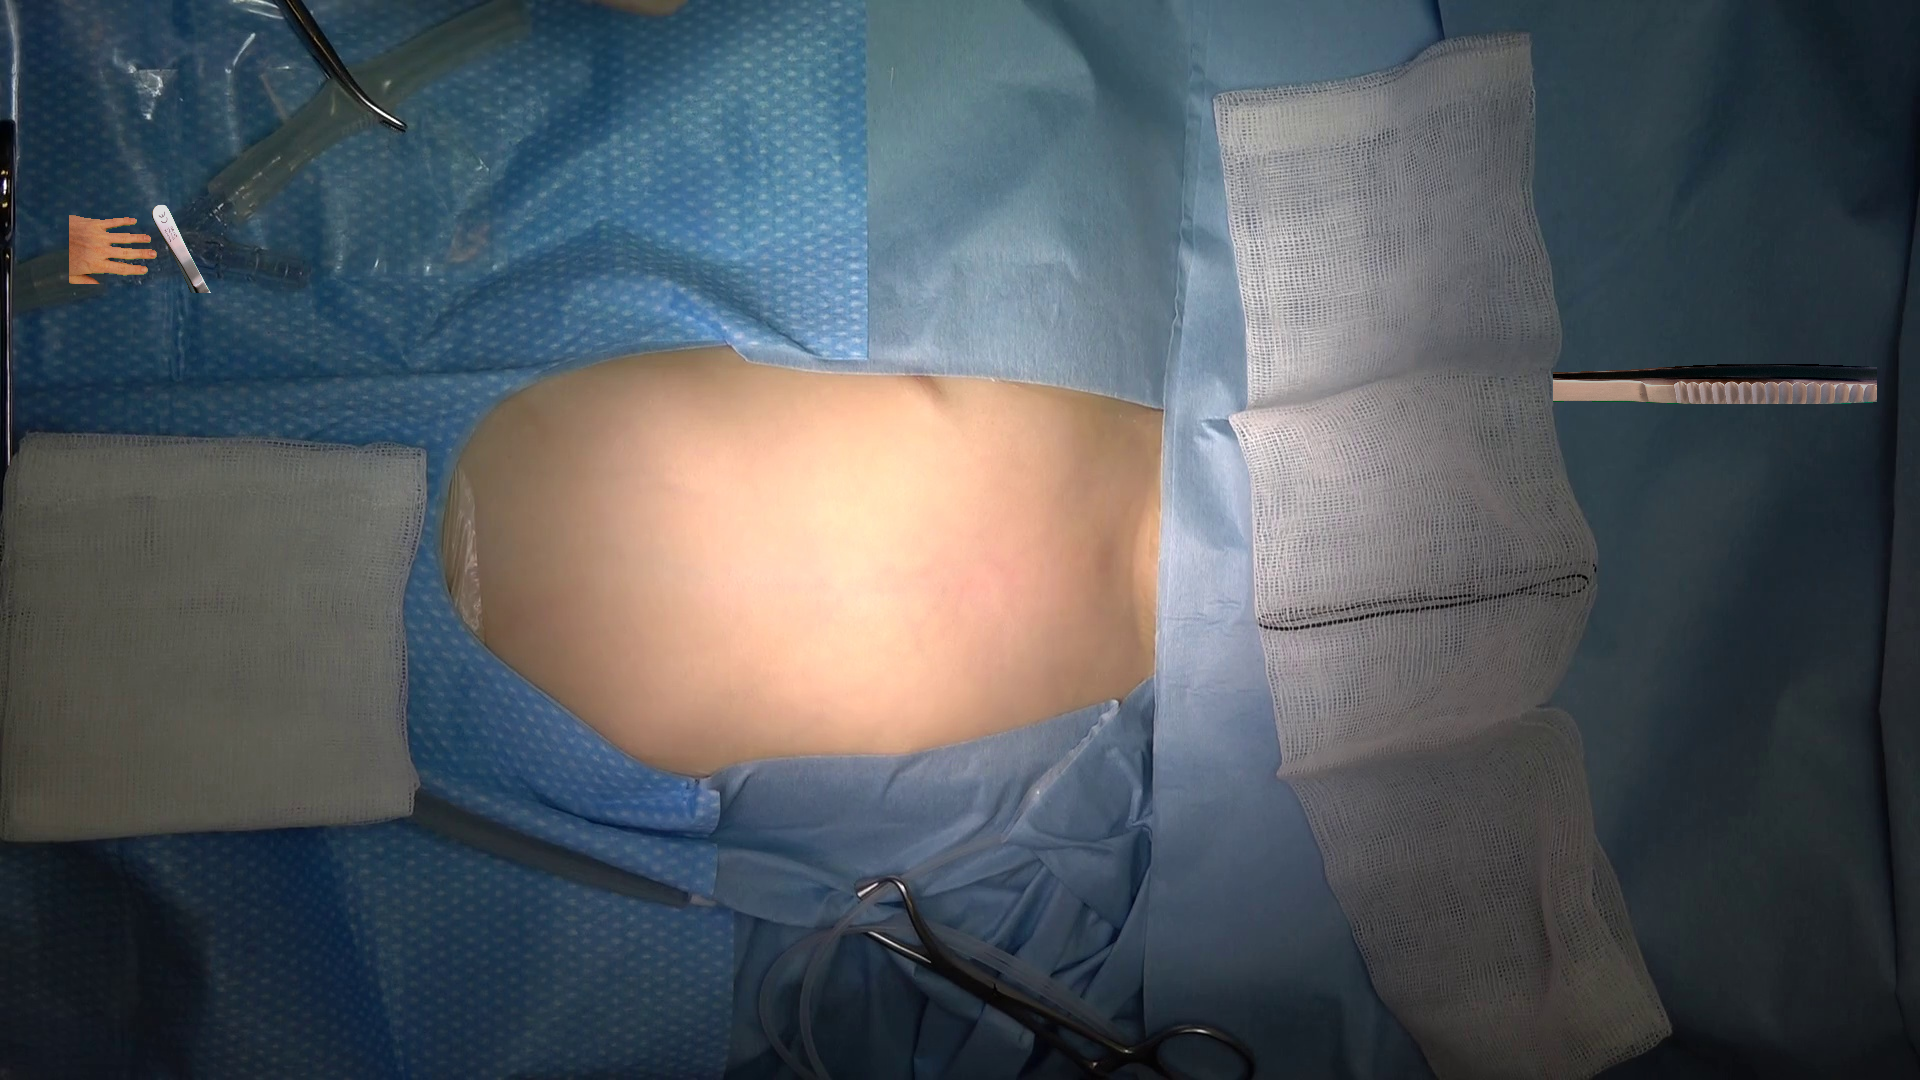forceps: (1553, 364, 1876, 404), (152, 204, 210, 291)
